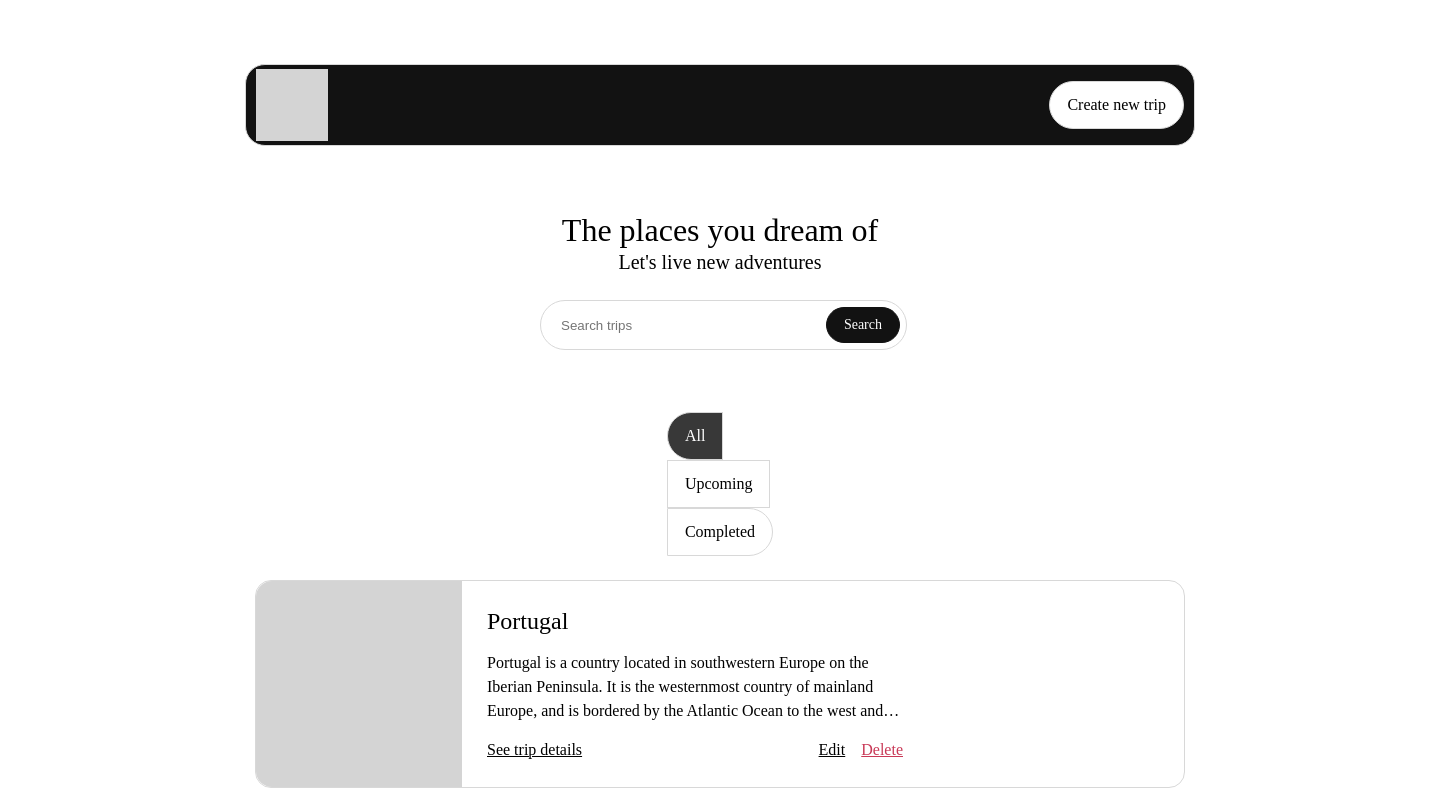
Landing › opens edit modal
Step 1. Click the button "Edit" → (832, 750), box left=819, top=738, right=845, bottom=762
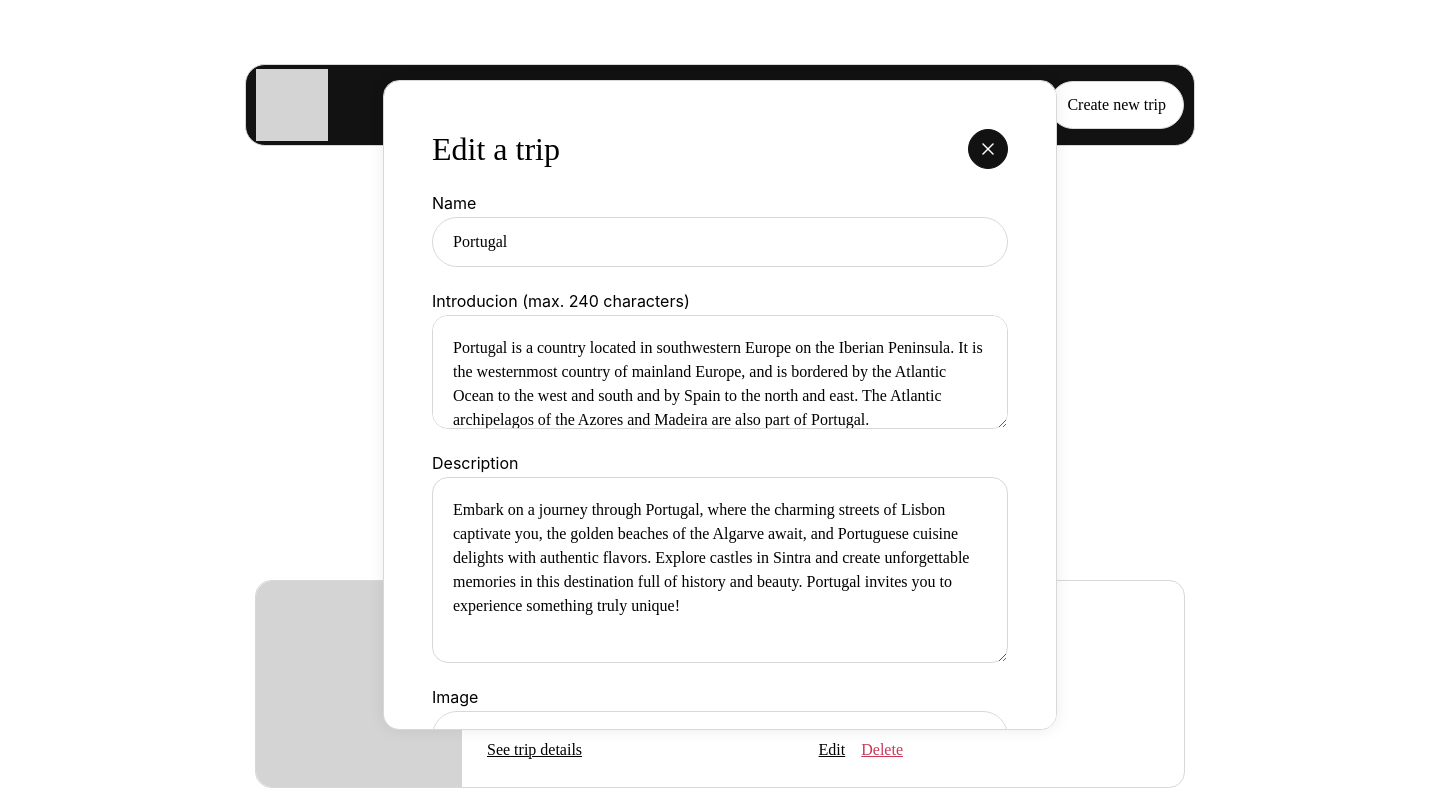
Expected: the dialog is shown, left=383, top=80, right=1057, bottom=730
Step 2. Click the button named "icon-button" → (988, 149), box left=968, top=129, right=1008, bottom=169
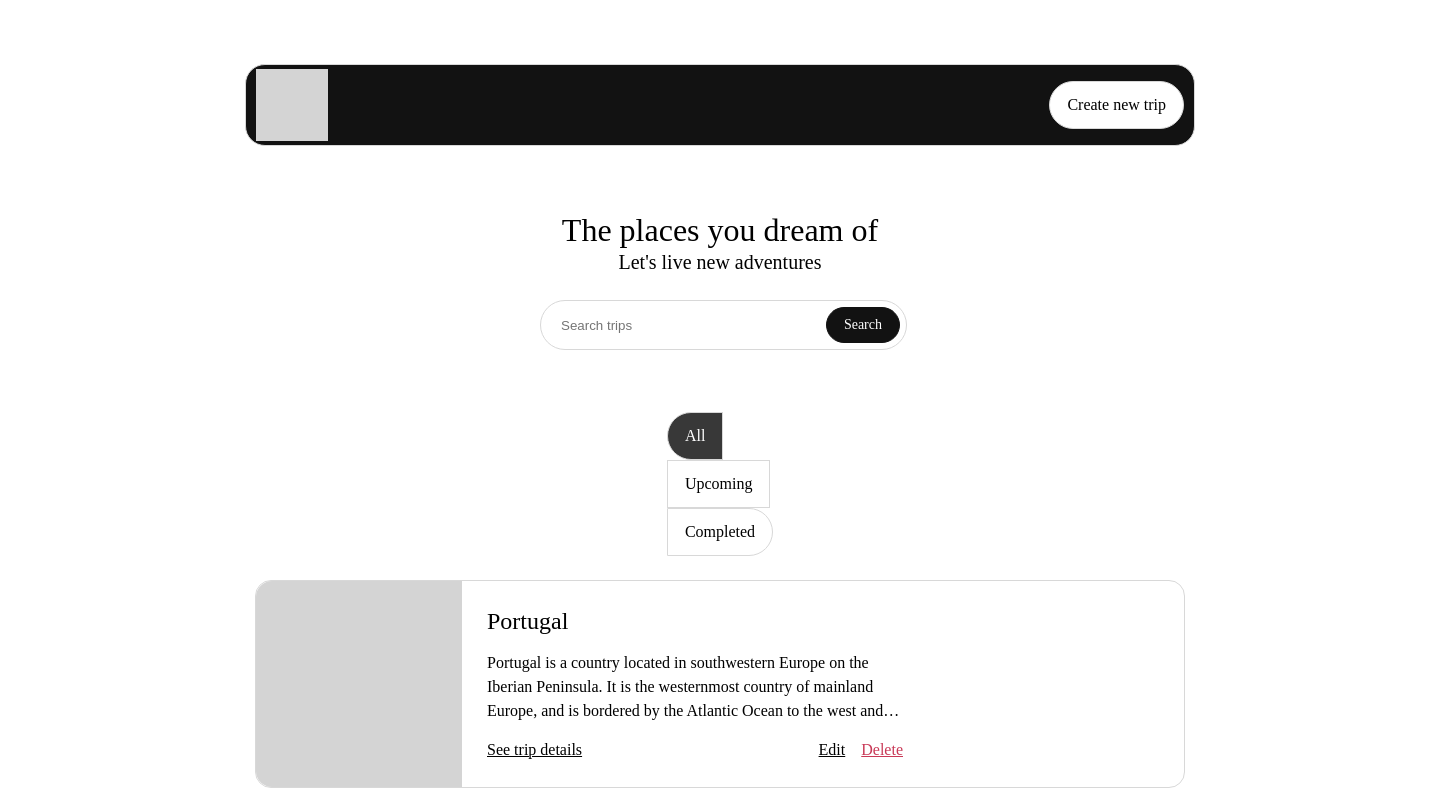
Expected: the dialog is gone
